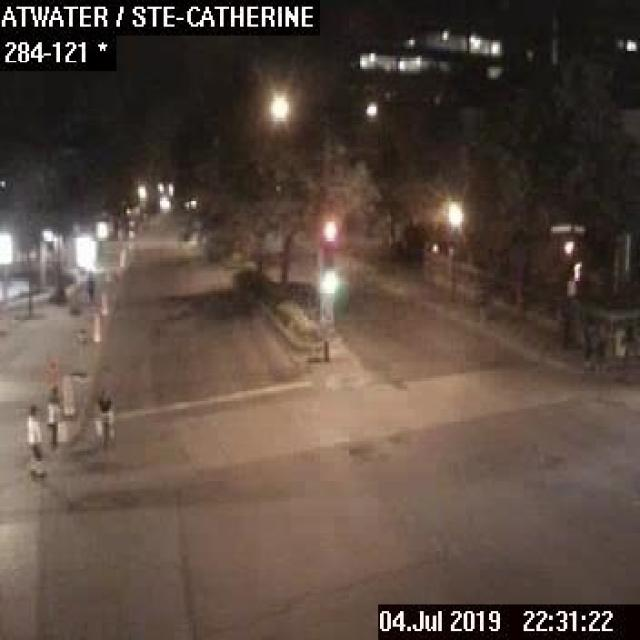construction: (60, 371, 75, 413), (89, 314, 99, 342), (99, 292, 106, 313)
cyclist: (92, 387, 114, 447)
pedestrian: (26, 400, 46, 478), (44, 382, 60, 447), (578, 318, 593, 371), (591, 322, 605, 374), (84, 269, 95, 302)
